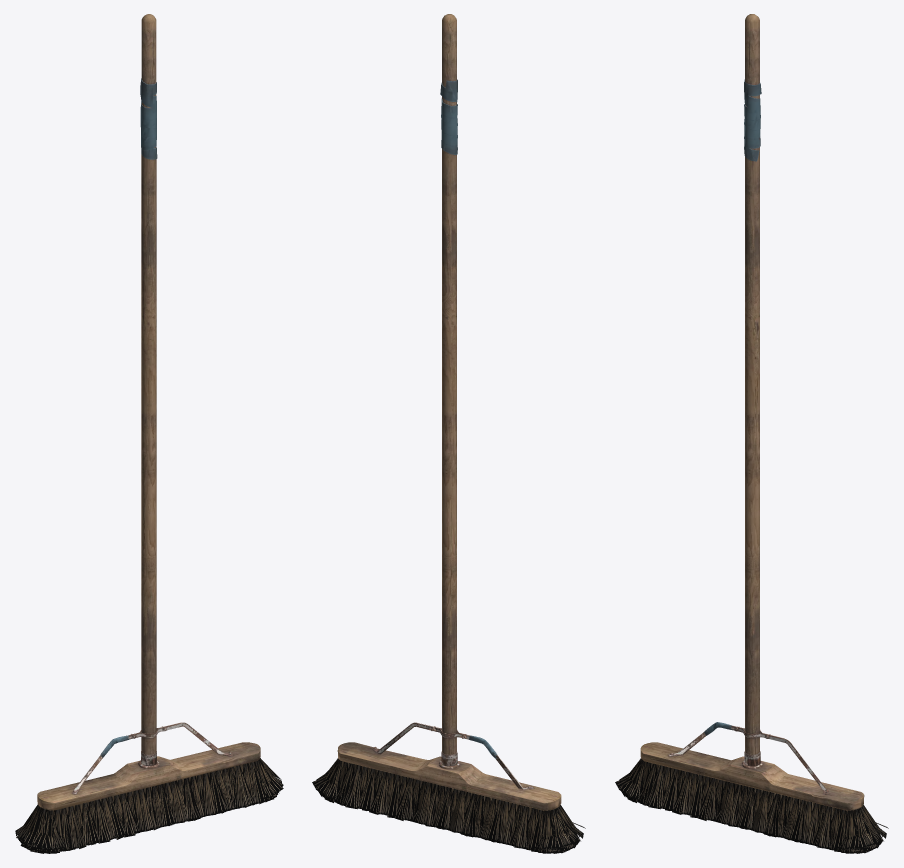
The model's file is wooden_broom.glb.
3 views of the same model, side by side, from view 1: azimuth 30°, elevation 25°; view 2: azimuth 150°, elevation 25°; view 3: azimuth 330°, elevation 25° (orthographic).
Parts seen in each view (by area): view 1: wooden_broom_handle, wooden_broom_bristles; view 2: wooden_broom_handle, wooden_broom_bristles; view 3: wooden_broom_handle, wooden_broom_bristles.
Part boxes in pixels (box(x1,y1,x2,y2)): wooden_broom_handle: box(37, 14, 260, 810); wooden_broom_bristles: box(15, 758, 283, 853); wooden_broom_handle: box(337, 14, 561, 810); wooden_broom_bristles: box(312, 758, 585, 853); wooden_broom_handle: box(640, 14, 864, 810); wooden_broom_bristles: box(615, 758, 888, 853).
Size of the model in its own units: 0.4902 by 1.45 by 0.1125.
2 materials, 2 textured.
